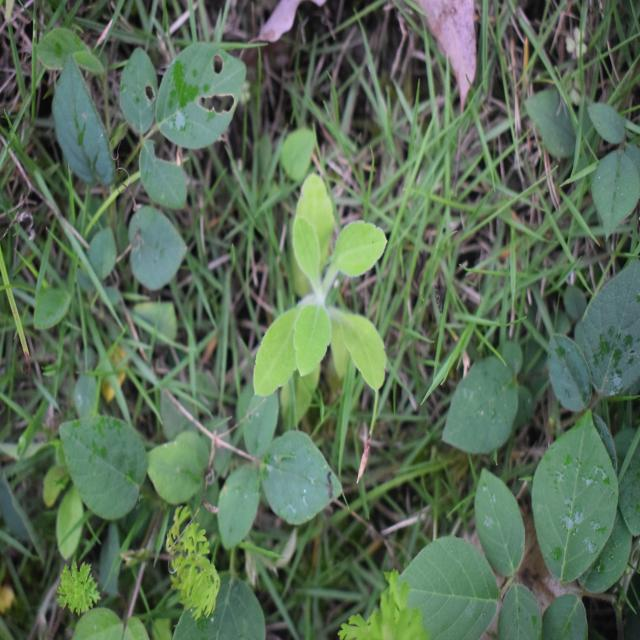horseweed: (232, 196, 390, 408)
